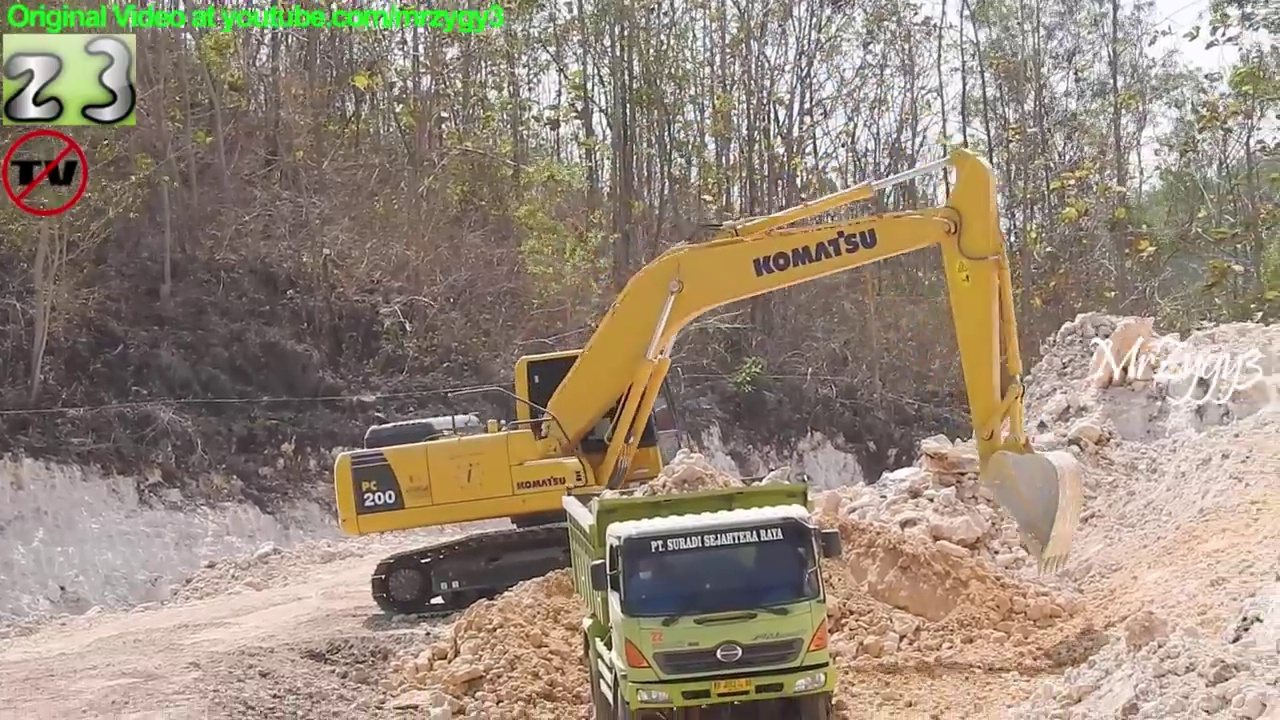excavator: (331, 143, 1091, 628)
truck: (558, 468, 847, 720)
